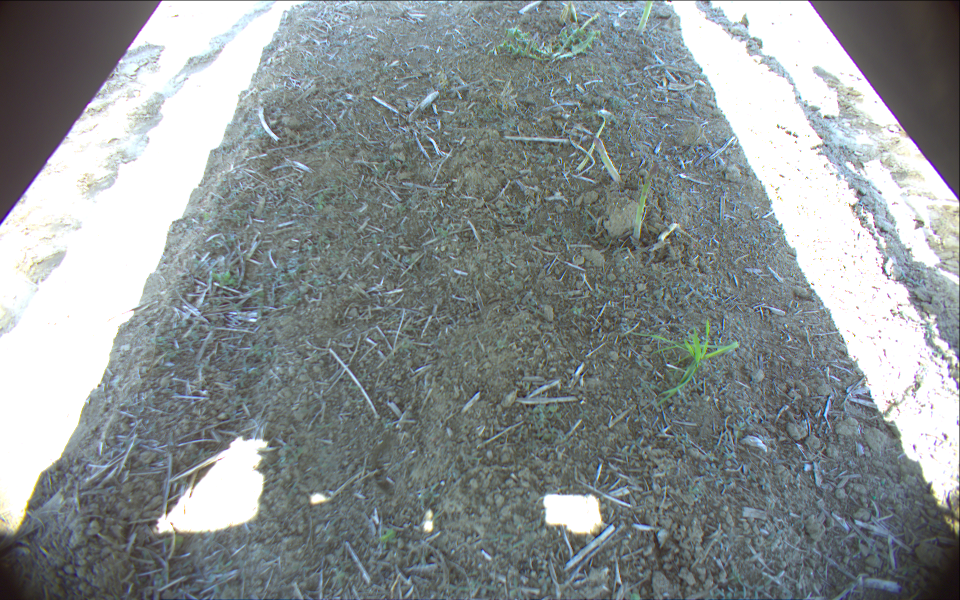aspa: (632, 161, 660, 248), (575, 112, 606, 175), (592, 136, 621, 184), (638, 1, 654, 35), (577, 13, 600, 36)
